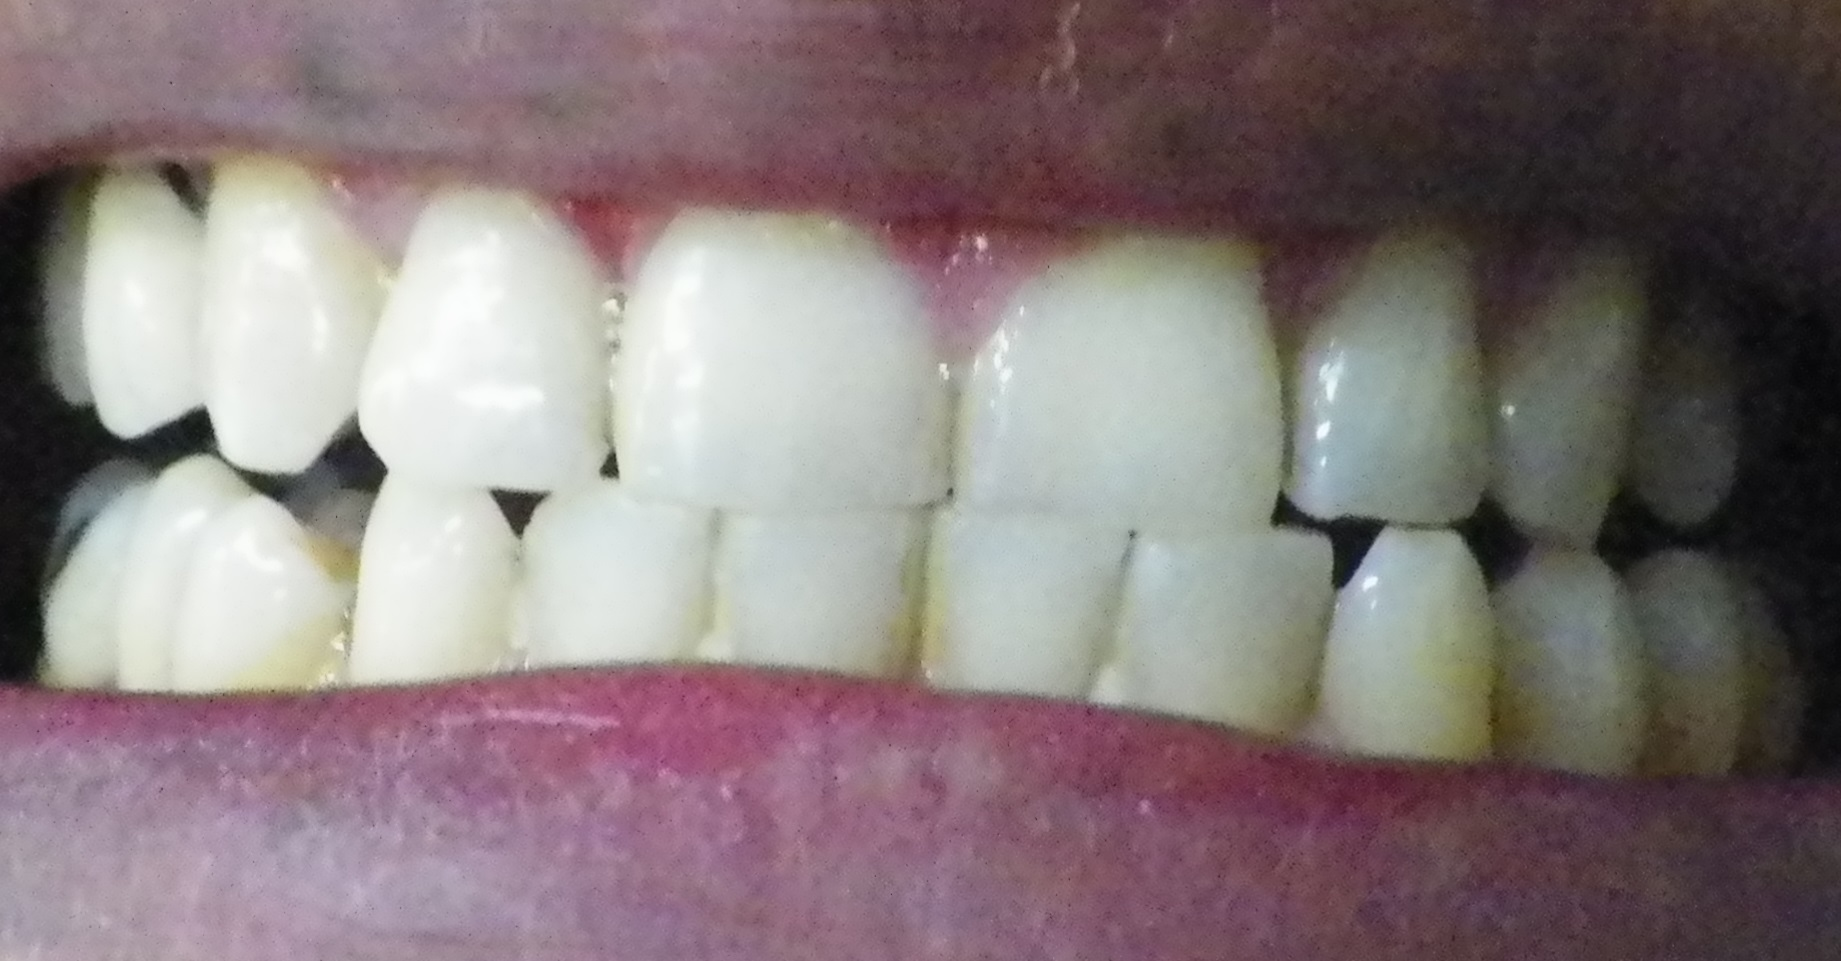boca: (27, 168, 1818, 771)
